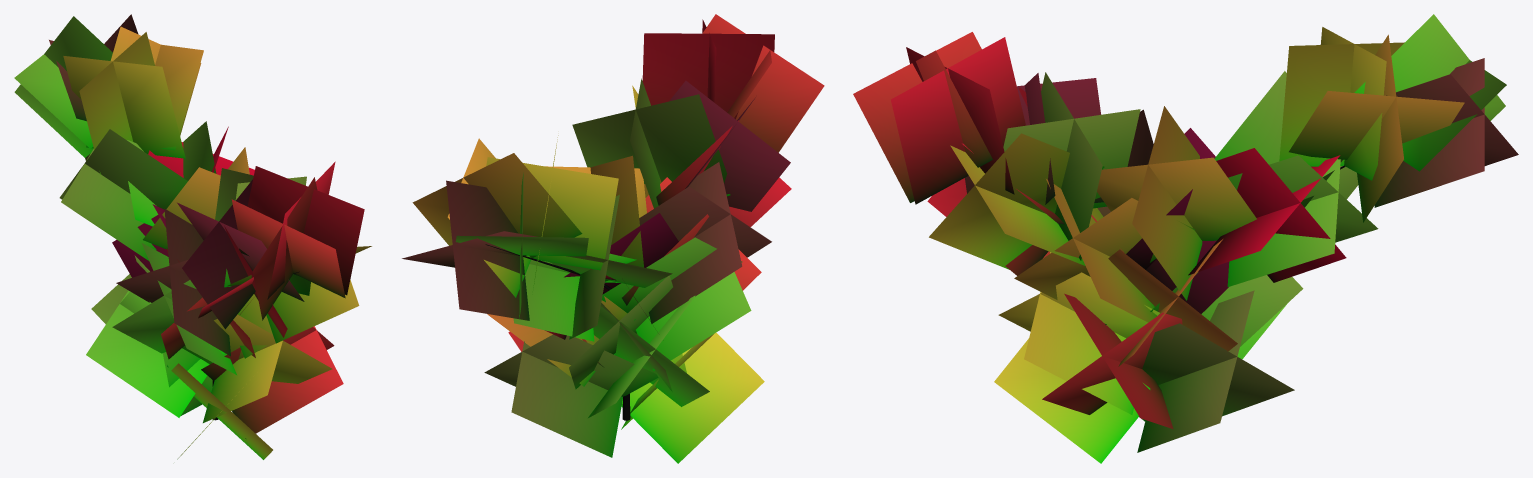
The model's file is Tree_6.fbx.
3 views of the same model, side by side, from view 1: azimuth 30°, elevation 25°; view 2: azimuth 150°, elevation 25°; view 3: azimuth 270°, elevation 25° (orthographic). The views are drawn at different scales.
Parts seen in each view (by area): view 1: Tree_6; view 2: Tree_6; view 3: Tree_6.
Boxes of the visible parts, left/top/right/bottom form: Tree_6: left=14, top=14, right=371, bottom=459; Tree_6: left=402, top=14, right=824, bottom=463; Tree_6: left=853, top=14, right=1518, bottom=463.
Bounding box in the file's own units: 426 × 645 × 925.
